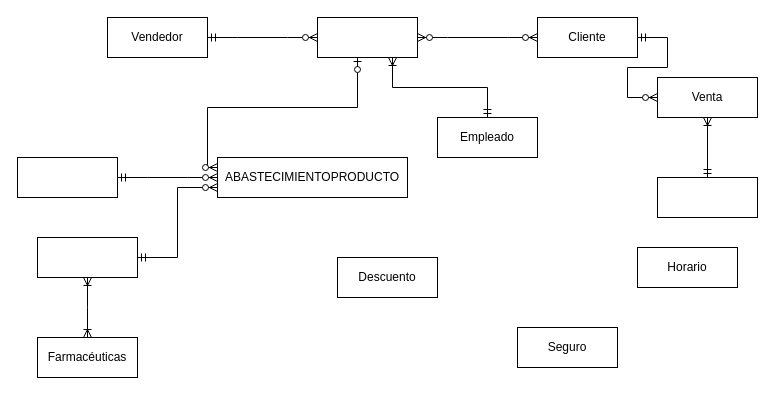
Some shapes in this 775 by 395 pixel diagram are drawn without their labels. Each missing label, with the centre of its shape:
Detalle_Venta: (707,197)
Producto: (87,257)
Proveedor: (67,177)
Sucursal: (367,37)
